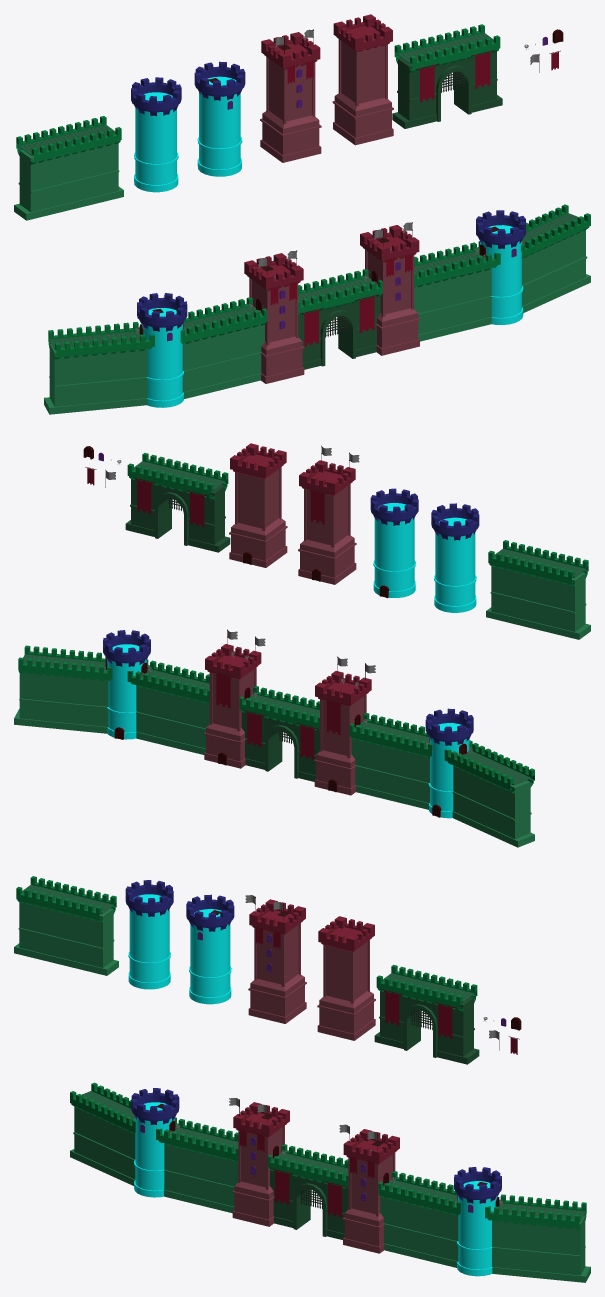
The model's file is Muralla3.obj.
3 views of the same model, one above another, from view 1: azimuth 30°, elevation 25°; view 2: azimuth 150°, elevation 25°; view 3: azimuth 330°, elevation 25° (orthographic). The views are drawn at different scales.
Visible parts, largest first — view 1: group89 group91 pCube357, group89 pCube341, pCube25 Pared, Torre_C polySurface69, Torre_C_P polySurface1, Pared_Puerta polySurface18, polySurface7 Torre_R, polySurface7 Torre_R_P, group86 group87 polySurface95, group86 polySurface79, polySurface114 group90, group88 polySurface108 (+26 smaller); view 2: group89 group91 pCube357, group89 pCube341, pCube25 Pared, Torre_C polySurface69, Pared_Puerta polySurface18, Torre_C_P polySurface1, polySurface7 Torre_R, polySurface7 Torre_R_P, group86 group87 polySurface95, group86 polySurface79, group88 polySurface108, group89 polySurface113 (+24 smaller); view 3: group89 group91 pCube357, group89 pCube341, pCube25 Pared, Torre_C polySurface69, Pared_Puerta polySurface18, Torre_C_P polySurface1, polySurface7 Torre_R, polySurface7 Torre_R_P, group86 group87 polySurface95, group86 polySurface79, polySurface123 group92, group88 polySurface108 (+24 smaller).
Part boxes in pixels (box(x1,y1,x2,y2)): group89 group91 pCube357: box(44, 230, 590, 414); group89 pCube341: box(182, 268, 492, 398); pCube25 Pared: box(14, 143, 123, 220); Torre_C polySurface69: box(332, 41, 393, 145); Torre_C_P polySurface1: box(260, 58, 321, 162); Pared_Puerta polySurface18: box(392, 51, 502, 128); polySurface7 Torre_R: box(134, 92, 178, 192); polySurface7 Torre_R_P: box(197, 76, 242, 176); group86 group87 polySurface95: box(367, 251, 420, 355); group86 polySurface79: box(252, 280, 304, 383); polySurface114 group90: box(141, 308, 183, 407); group88 polySurface108: box(298, 296, 380, 369); group89 group91 pCube357: box(14, 672, 534, 847); group89 pCube341: box(136, 685, 429, 809); pCube25 Pared: box(486, 566, 590, 639); Torre_C polySurface69: box(229, 469, 287, 567); Pared_Puerta polySurface18: box(125, 479, 230, 552); Torre_C_P polySurface1: box(298, 485, 356, 584); polySurface7 Torre_R: box(434, 517, 476, 612); polySurface7 Torre_R_P: box(373, 503, 415, 597); group86 group87 polySurface95: box(204, 669, 254, 768); group86 polySurface79: box(314, 696, 364, 795); group88 polySurface108: box(241, 711, 319, 781); group89 polySurface113: box(127, 670, 432, 757); group89 group91 pCube357: box(70, 1107, 590, 1282); group89 pCube341: box(163, 1143, 458, 1267); pCube25 Pared: box(14, 902, 118, 975); Torre_C polySurface69: box(317, 941, 375, 1040); Pared_Puerta polySurface18: box(374, 991, 479, 1064); Torre_C_P polySurface1: box(248, 925, 306, 1023); polySurface7 Torre_R: box(128, 894, 170, 989); polySurface7 Torre_R_P: box(189, 909, 231, 1004); group86 group87 polySurface95: box(342, 1154, 392, 1253); group86 polySurface79: box(232, 1127, 282, 1226); polySurface123 group92: box(457, 1181, 497, 1276); group88 polySurface108: box(270, 1170, 348, 1239).
Bounding box in the file's own units: 242 × 135 × 27.09.
